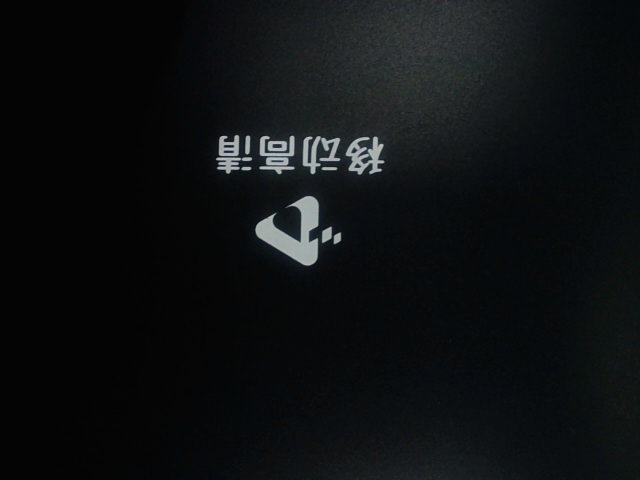AO_MobileHD: (196, 107, 412, 285)
